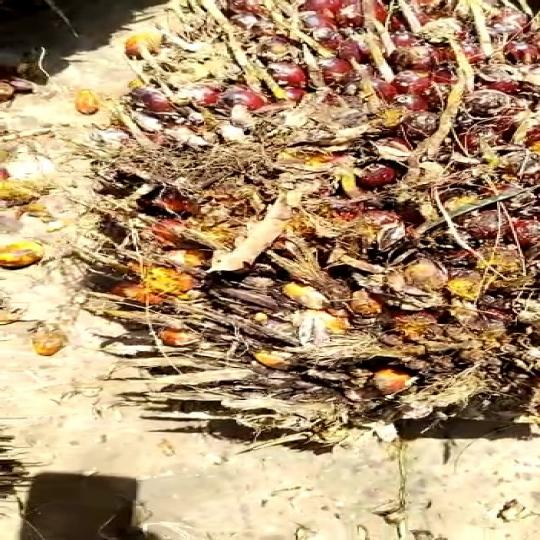masak: (59, 0, 540, 465)
